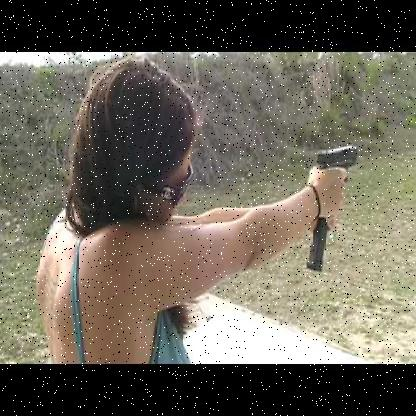pistol: (315, 144, 361, 227)
